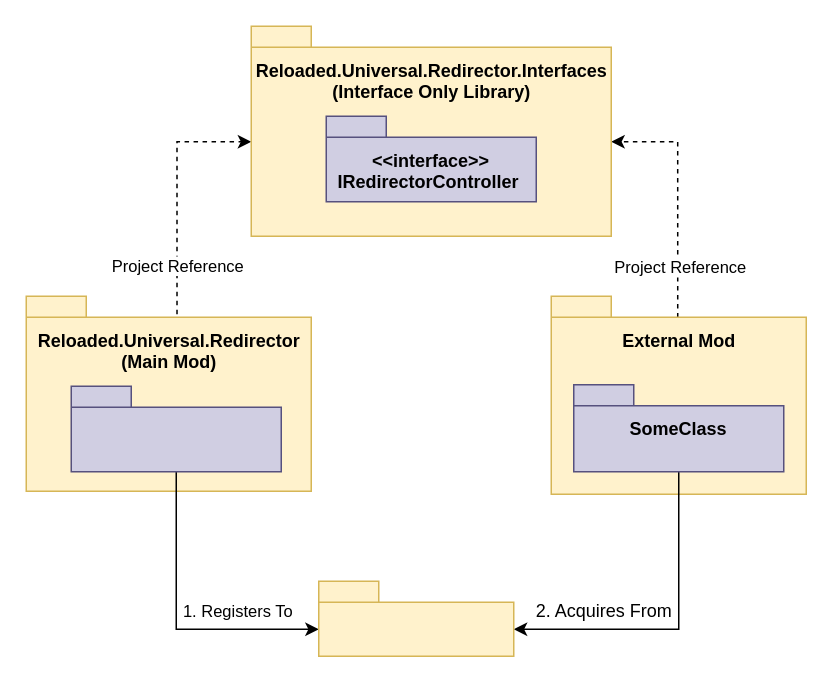
This 833x683 diagram has some shape labels left out. Each missing label, with the centre of its shape:
Mod Loader: the point at 415,618
Redirector: the point at 175,428
